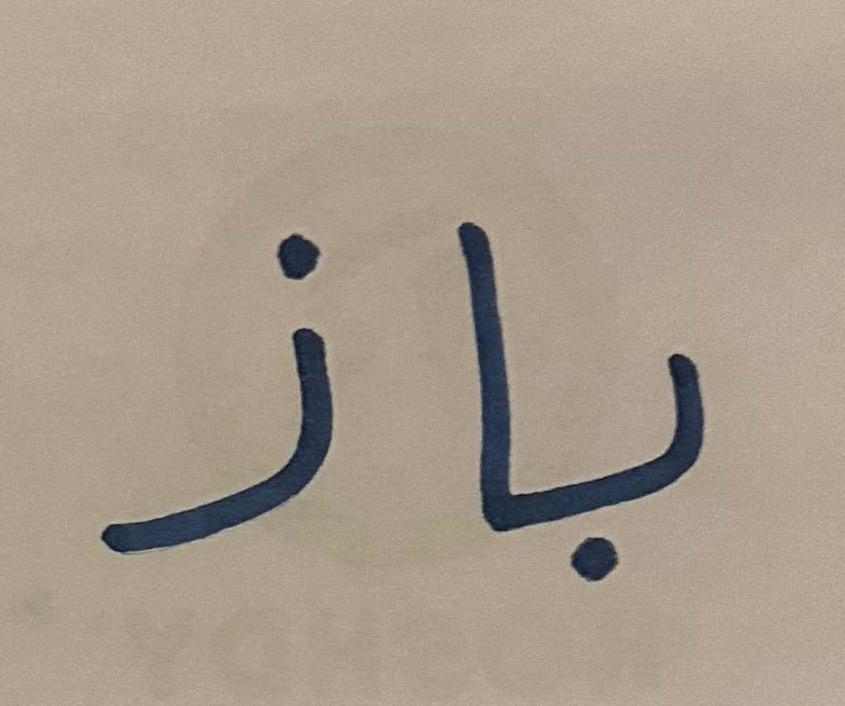ain: (63, 154, 404, 615)
alef: (410, 189, 534, 609)
beh: (539, 294, 767, 634)
